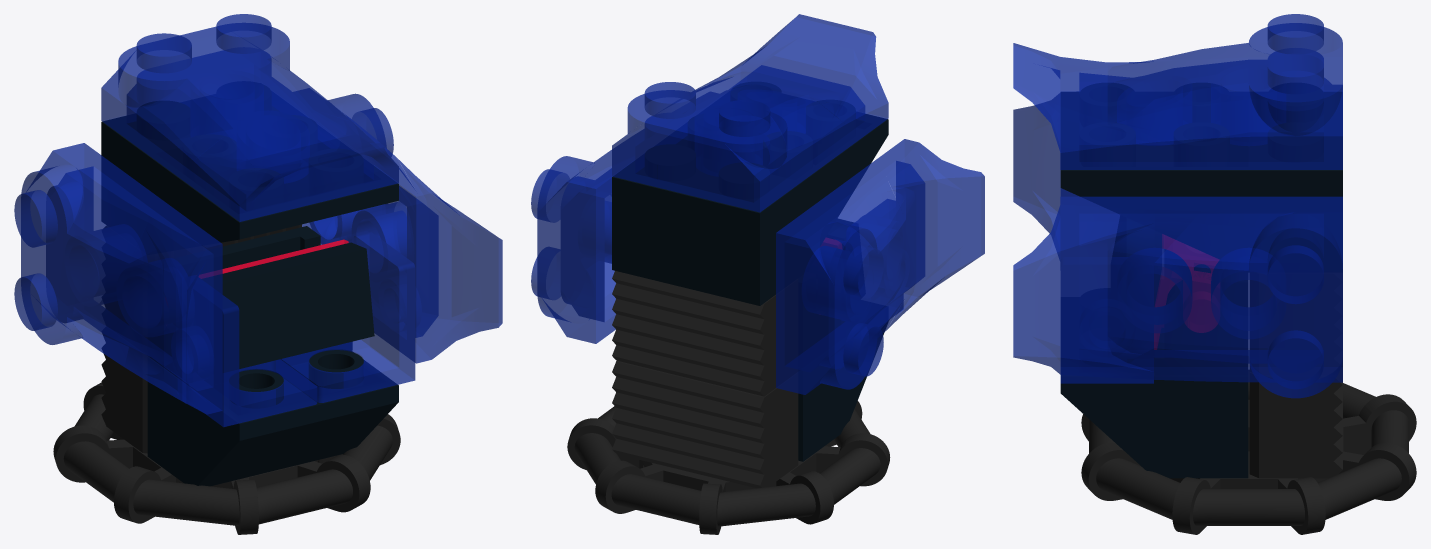
File: miniarcadecab.dae
3 renders of one model, left to right at view 1: azimuth 30°, elevation 25°; view 2: azimuth 150°, elevation 25°; view 3: azimuth 270°, elevation 25°, orthographic. The views are drawn at different scales.
Visible parts, largest first — view 1: 47456_dot_dat (×3), 3747a_dot_dat, 3660_dot_dat, 28974_dot_dat (×2), 30033_dot_dat, 3069b_dot_dat, 2877_dot_dat (×2), 3937_dot_dat, 3938_dot_dat; view 2: 47456_dot_dat (×3), 3747a_dot_dat, 2877_dot_dat (×2), 30033_dot_dat, 3660_dot_dat, 28974_dot_dat, 3937_dot_dat; view 3: 47456_dot_dat (×3), 3747a_dot_dat, 30033_dot_dat, 3660_dot_dat, 2877_dot_dat (×2), 28974_dot_dat (×2), 3937_dot_dat, 3938_dot_dat, 3069b_dot_dat.
Part boxes in pixels (x1,y1,x2,y2): 47456_dot_dat (×3): (14,14,502,414); 3747a_dot_dat: (101,85,398,254); 3660_dot_dat: (147,350,398,486); 28974_dot_dat (×2): (171,232,421,427); 30033_dot_dat: (53,382,400,534); 3069b_dot_dat: (202,242,374,372); 2877_dot_dat (×2): (101,224,301,453); 3937_dot_dat: (148,226,352,377); 3938_dot_dat: (199,239,348,278); 47456_dot_dat (×3): (531,14,984,394); 3747a_dot_dat: (612,82,888,305); 2877_dot_dat (×2): (612,271,798,488); 30033_dot_dat: (567,401,890,534); 3660_dot_dat: (798,323,887,461); 28974_dot_dat: (842,199,909,326); 3937_dot_dat: (798,274,843,354); 47456_dot_dat (×3): (1013,14,1342,398); 3747a_dot_dat: (1060,83,1342,272); 30033_dot_dat: (1081,370,1416,534); 3660_dot_dat: (1060,358,1248,478); 2877_dot_dat (×2): (1249,273,1342,478); 28974_dot_dat (×2): (1060,188,1153,383); 3937_dot_dat: (1155,264,1247,375); 3938_dot_dat: (1154,234,1218,349); 3069b_dot_dat: (1112,215,1161,306).
Size of the model in its own units: 87.75 by 99.75 by 85.35.
